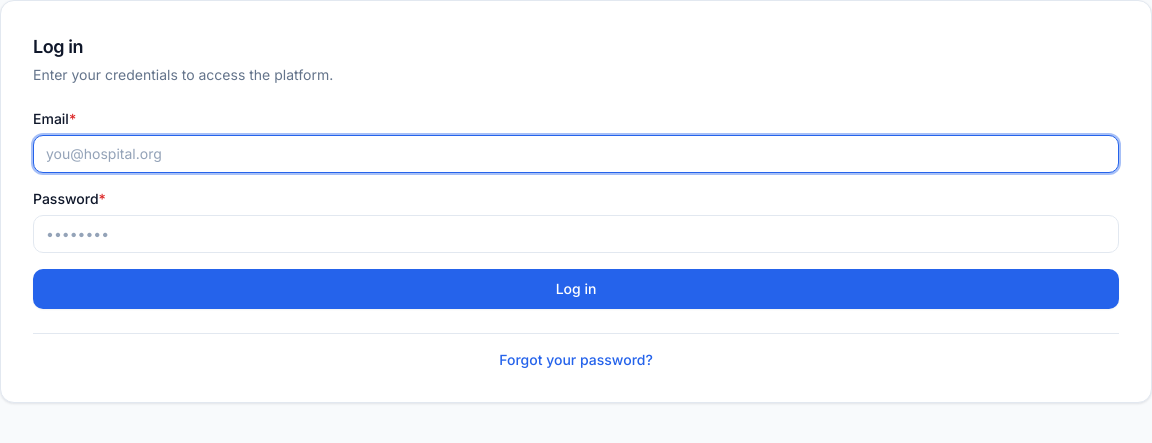
Test: LoginPage › shows validation error for invalid email
Step 1. Type "not-an-email" into the field labelled "Email*" → (576, 154), box [33,135,1119,173]
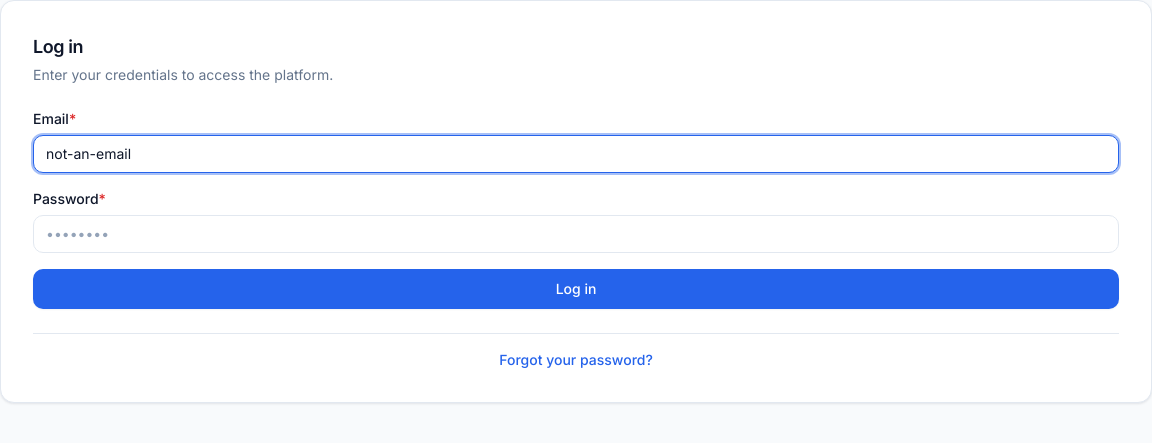
Step 2. Type "password123" into the password field labelled "Password*" → (576, 234), box [33,215,1119,253]
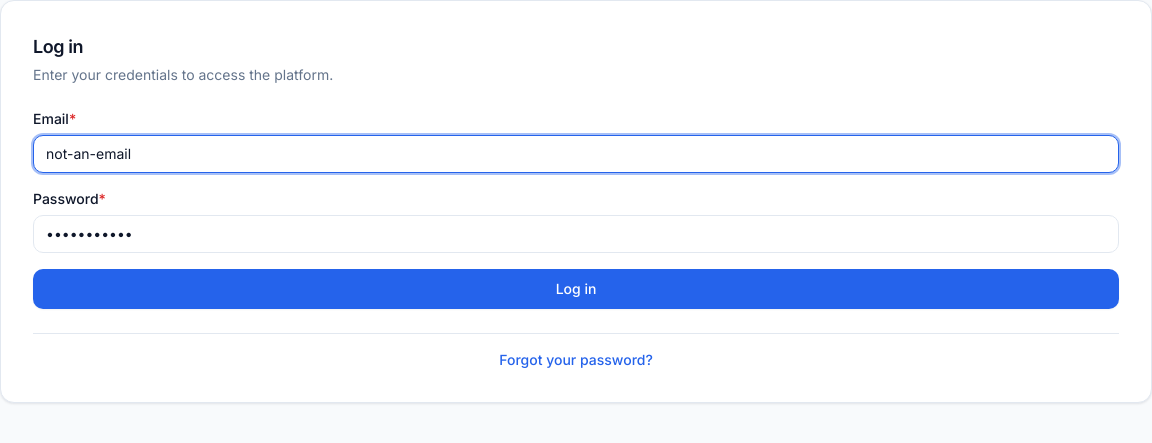
Step 3. Click the button "Log in" → (576, 289), box [33,269,1119,309]
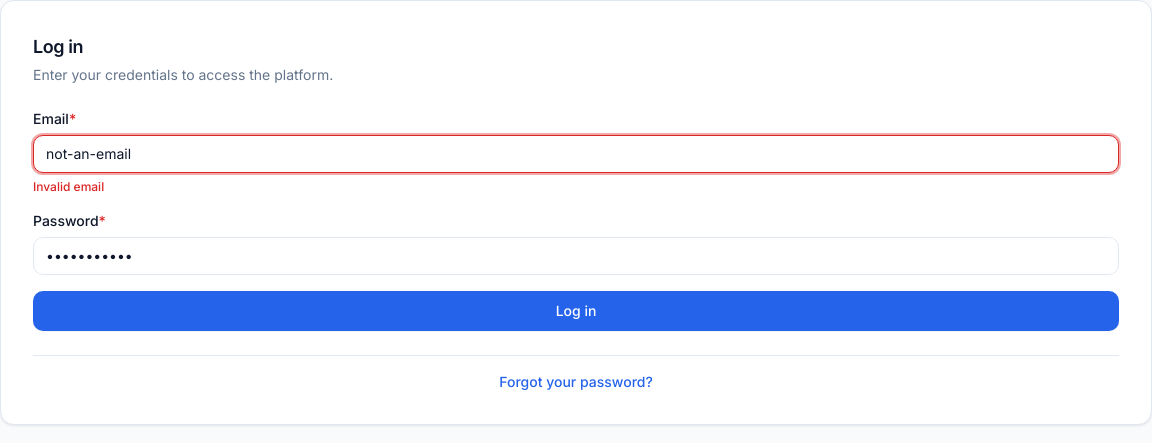
Expected: the text "Invalid email" is shown, [33,179,104,194]
